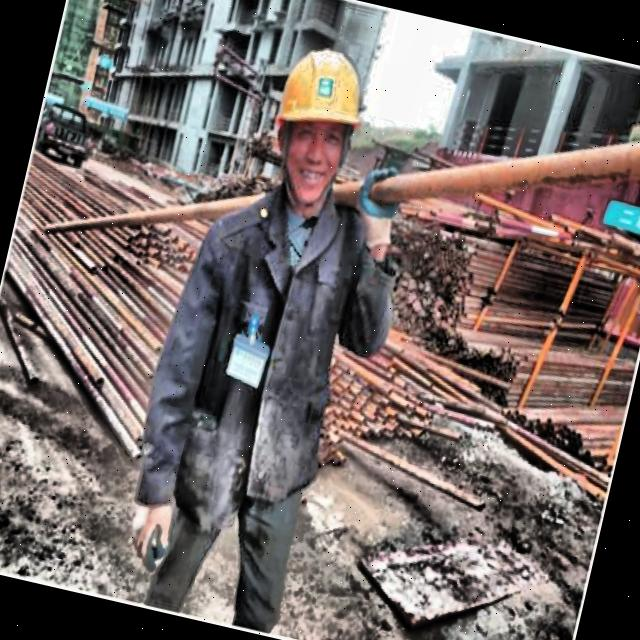helmet: (252, 26, 386, 222)
